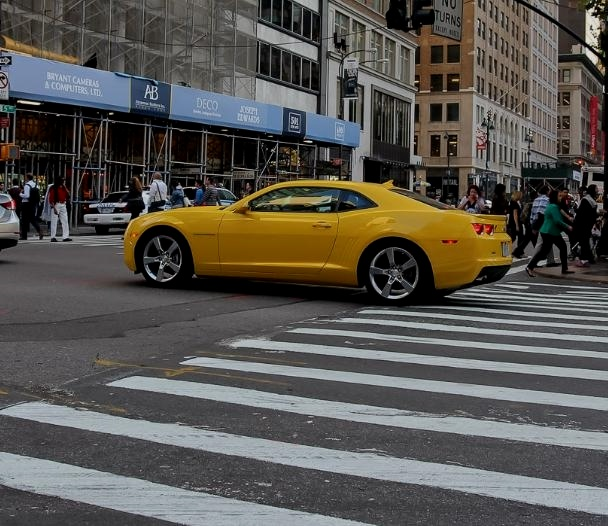car: (109, 173, 522, 311)
